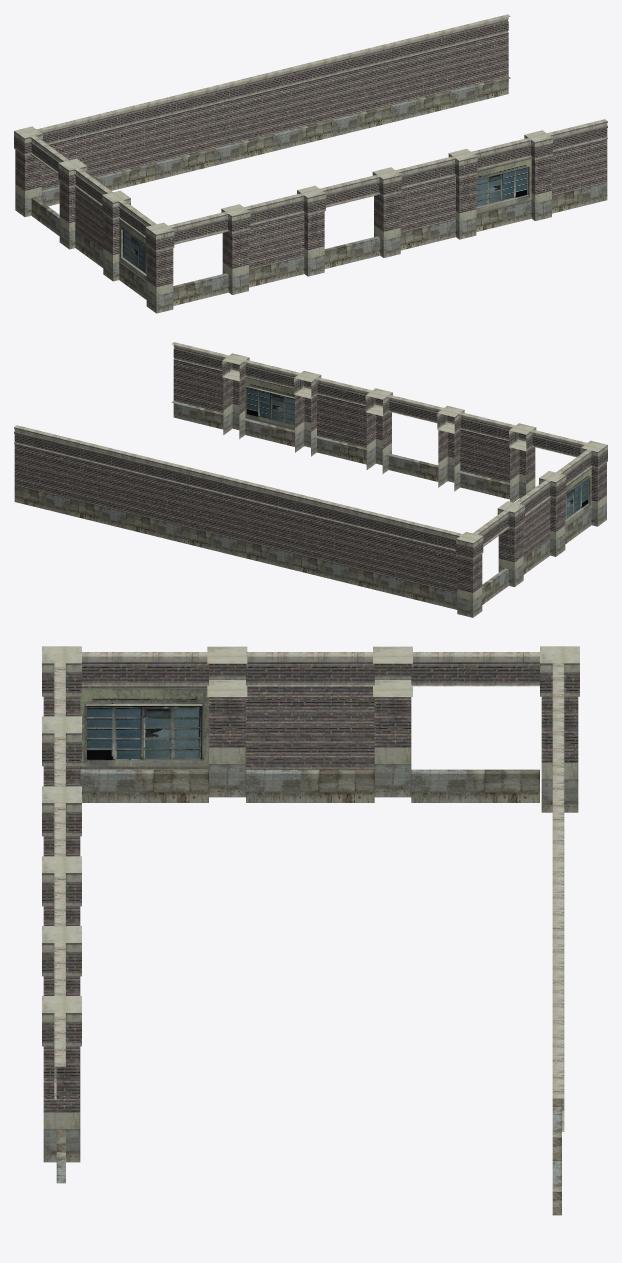
Rendered from warehouse_building01_building01_fence_0_lev1.glb.
The picture shows the model from 3 angles, top to bottom: view 1: azimuth 30°, elevation 25°; view 2: azimuth 150°, elevation 25°; view 3: azimuth 270°, elevation 25°; orthographic projection. The views are drawn at different scales.
Parts seen in each view (by area): view 1: warehouse_building01_building01_fence_0_lev1; view 2: warehouse_building01_building01_fence_0_lev1; view 3: warehouse_building01_building01_fence_0_lev1.
Part boxes in pixels (box(x1,y1,x2,y2)): warehouse_building01_building01_fence_0_lev1: box(14, 14, 607, 313); warehouse_building01_building01_fence_0_lev1: box(14, 342, 607, 617); warehouse_building01_building01_fence_0_lev1: box(42, 646, 579, 1215).
Size of the model in its own units: 19.94 by 3.08 by 10.03.
1 material, 1 textured.
